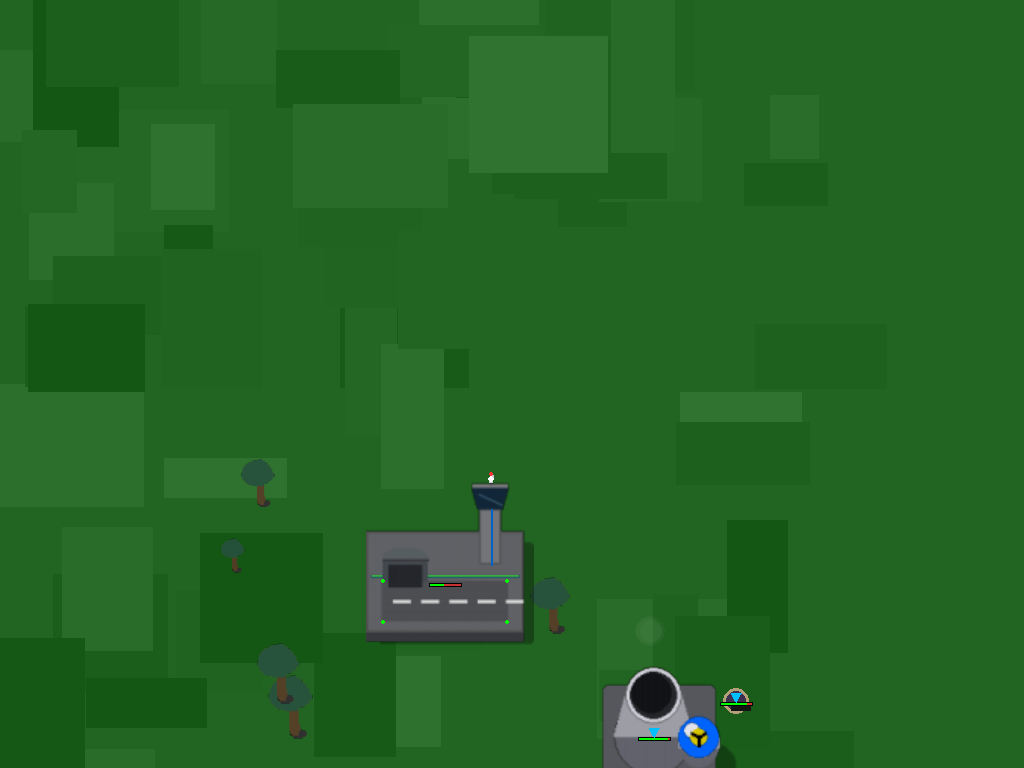Airfield: (372, 508, 519, 655)
PowerPlant: (609, 690, 699, 768)
RocketTrooper: (716, 681, 757, 722)
